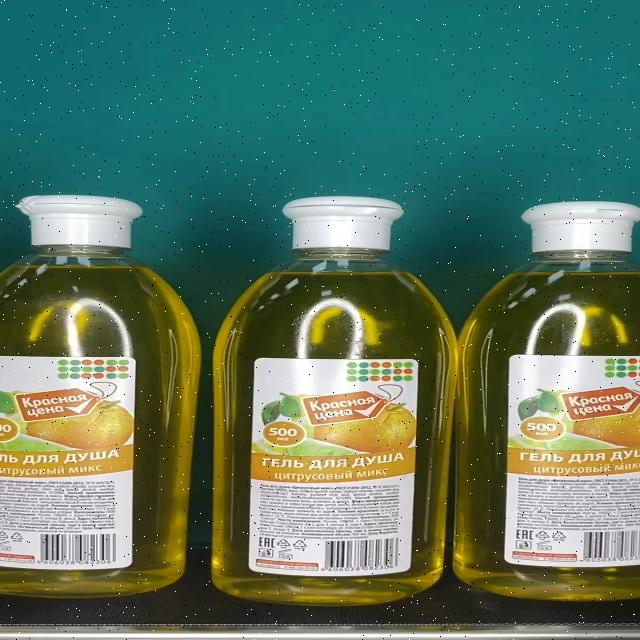Bottle: (210, 198, 459, 606), (0, 196, 201, 598), (454, 200, 640, 600)
Cap: (19, 195, 143, 249), (284, 197, 406, 250), (523, 201, 640, 253)
